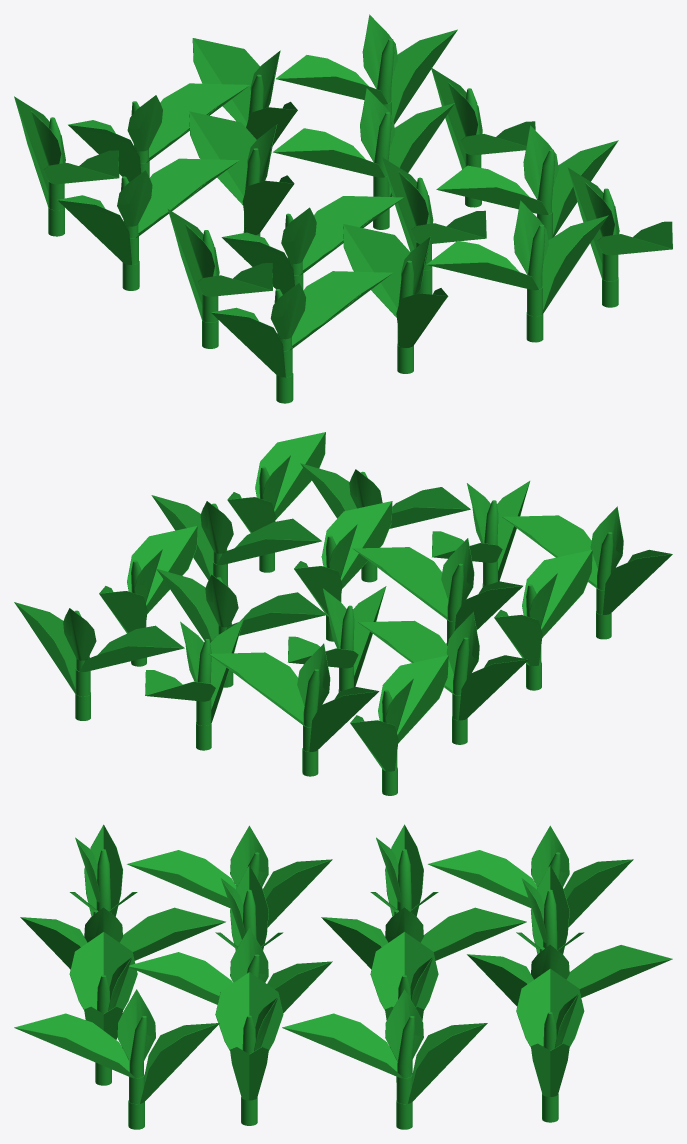
The model's file is plants.fbx.
3 renders of one model, top to bottom at view 1: azimuth 30°, elevation 25°; view 2: azimuth 150°, elevation 25°; view 3: azimuth 270°, elevation 25°, orthographic. The views are drawn at different scales.
Visible parts, largest first — view 1: plant.010, plant.008, plant.007, plant.005, plant.003, plant.012, plant.009, plant.014, plant.001, plant.006, plant.002, plant (+4 smaller); view 2: plant.001, plant.008, plant.007, plant.014, plant.003, plant, plant.015, plant.012, plant.005, plant.011, plant.004, plant.013 (+4 smaller); view 3: plant.004, plant.011, plant, plant.015, plant.003, plant.012, plant.013, plant.009, plant.006, plant.002, plant.010, plant.005 (+4 smaller).
Part boxes in pixels (x1=…): plant.010: x1=426, y1=200, x2=608, y2=342; plant.008: x1=211, y1=271, x2=392, y2=403; plant.007: x1=57, y1=158, x2=239, y2=290; plant.005: x1=273, y1=88, x2=454, y2=229; plant.003: x1=276, y1=14, x2=457, y2=124; plant.012: x1=436, y1=125, x2=618, y2=240; plant.009: x1=343, y1=224, x2=448, y2=373; plant.014: x1=221, y1=196, x2=403, y2=294; plant.001: x1=68, y1=83, x2=249, y2=181; plant.006: x1=189, y1=111, x2=294, y2=259; plant.002: x1=192, y1=38, x2=297, y2=145; plant: x1=14, y1=96, x2=119, y2=236; plant.001: x1=209, y1=643, x2=379, y2=776; plant.008: x1=502, y1=506, x2=672, y2=639; plant.007: x1=358, y1=612, x2=528, y2=744; plant.014: x1=353, y1=538, x2=522, y2=645; plant.003: x1=14, y1=602, x2=184, y2=720; plant: x1=350, y1=655, x2=448, y2=795; plant.015: x1=494, y1=550, x2=592, y2=690; plant.012: x1=151, y1=495, x2=321, y2=586; plant.005: x1=156, y1=568, x2=326, y2=687; plant.011: x1=227, y1=432, x2=325, y2=572; plant.004: x1=99, y1=526, x2=197, y2=666; plant.013: x1=294, y1=501, x2=392, y2=641; plant.004: x1=282, y1=989, x2=487, y2=1129; plant.011: x1=14, y1=989, x2=219, y2=1129; plant: x1=428, y1=825, x2=633, y2=927; plant.015: x1=127, y1=825, x2=332, y2=927; plant.003: x1=516, y1=968, x2=584, y2=1122; plant.012: x1=215, y1=972, x2=283, y2=1125; plant.013: x1=129, y1=928, x2=332, y2=1012; plant.009: x1=20, y1=907, x2=225, y2=969; plant.006: x1=321, y1=907, x2=526, y2=969; plant.002: x1=467, y1=944, x2=672, y2=1006; plant.010: x1=69, y1=932, x2=137, y2=1085; plant.005: x1=370, y1=932, x2=438, y2=1082.
Size of the model in its own units: 249 by 63.22 by 301.
